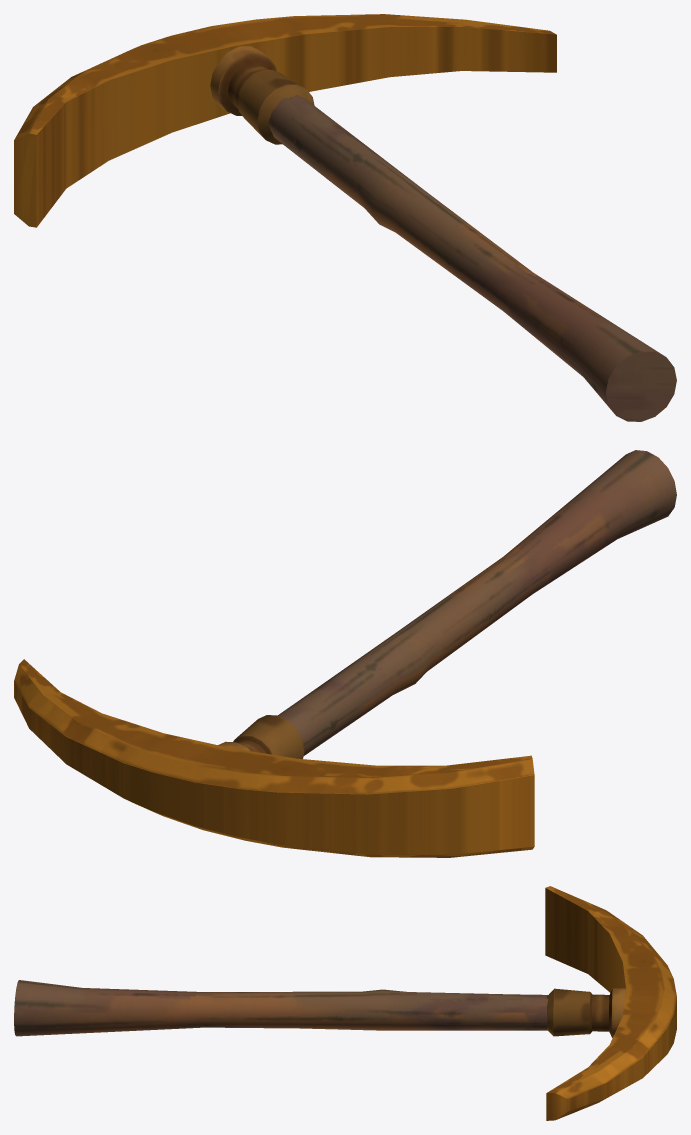
The model's file is fp-pickaxe-bronze-lod1.glb.
3 renders of one model, top to bottom at view 1: azimuth 30°, elevation 25°; view 2: azimuth 150°, elevation 25°; view 3: azimuth 270°, elevation 25°, orthographic. The views are drawn at different scales.
Visible parts, largest first — view 1: WeaponMesh_fp-pickaxe-bronze_Pickaxe_Bronze; view 2: WeaponMesh_fp-pickaxe-bronze_Pickaxe_Bronze; view 3: WeaponMesh_fp-pickaxe-bronze_Pickaxe_Bronze.
Part boxes in pixels (x1,y1,x2,y2): WeaponMesh_fp-pickaxe-bronze_Pickaxe_Bronze: [14, 14, 676, 421]; WeaponMesh_fp-pickaxe-bronze_Pickaxe_Bronze: [14, 450, 676, 857]; WeaponMesh_fp-pickaxe-bronze_Pickaxe_Bronze: [14, 886, 676, 1120].
Size of the model in its own units: 1.05 by 0.1756 by 1.55.
1 material, 1 textured.
